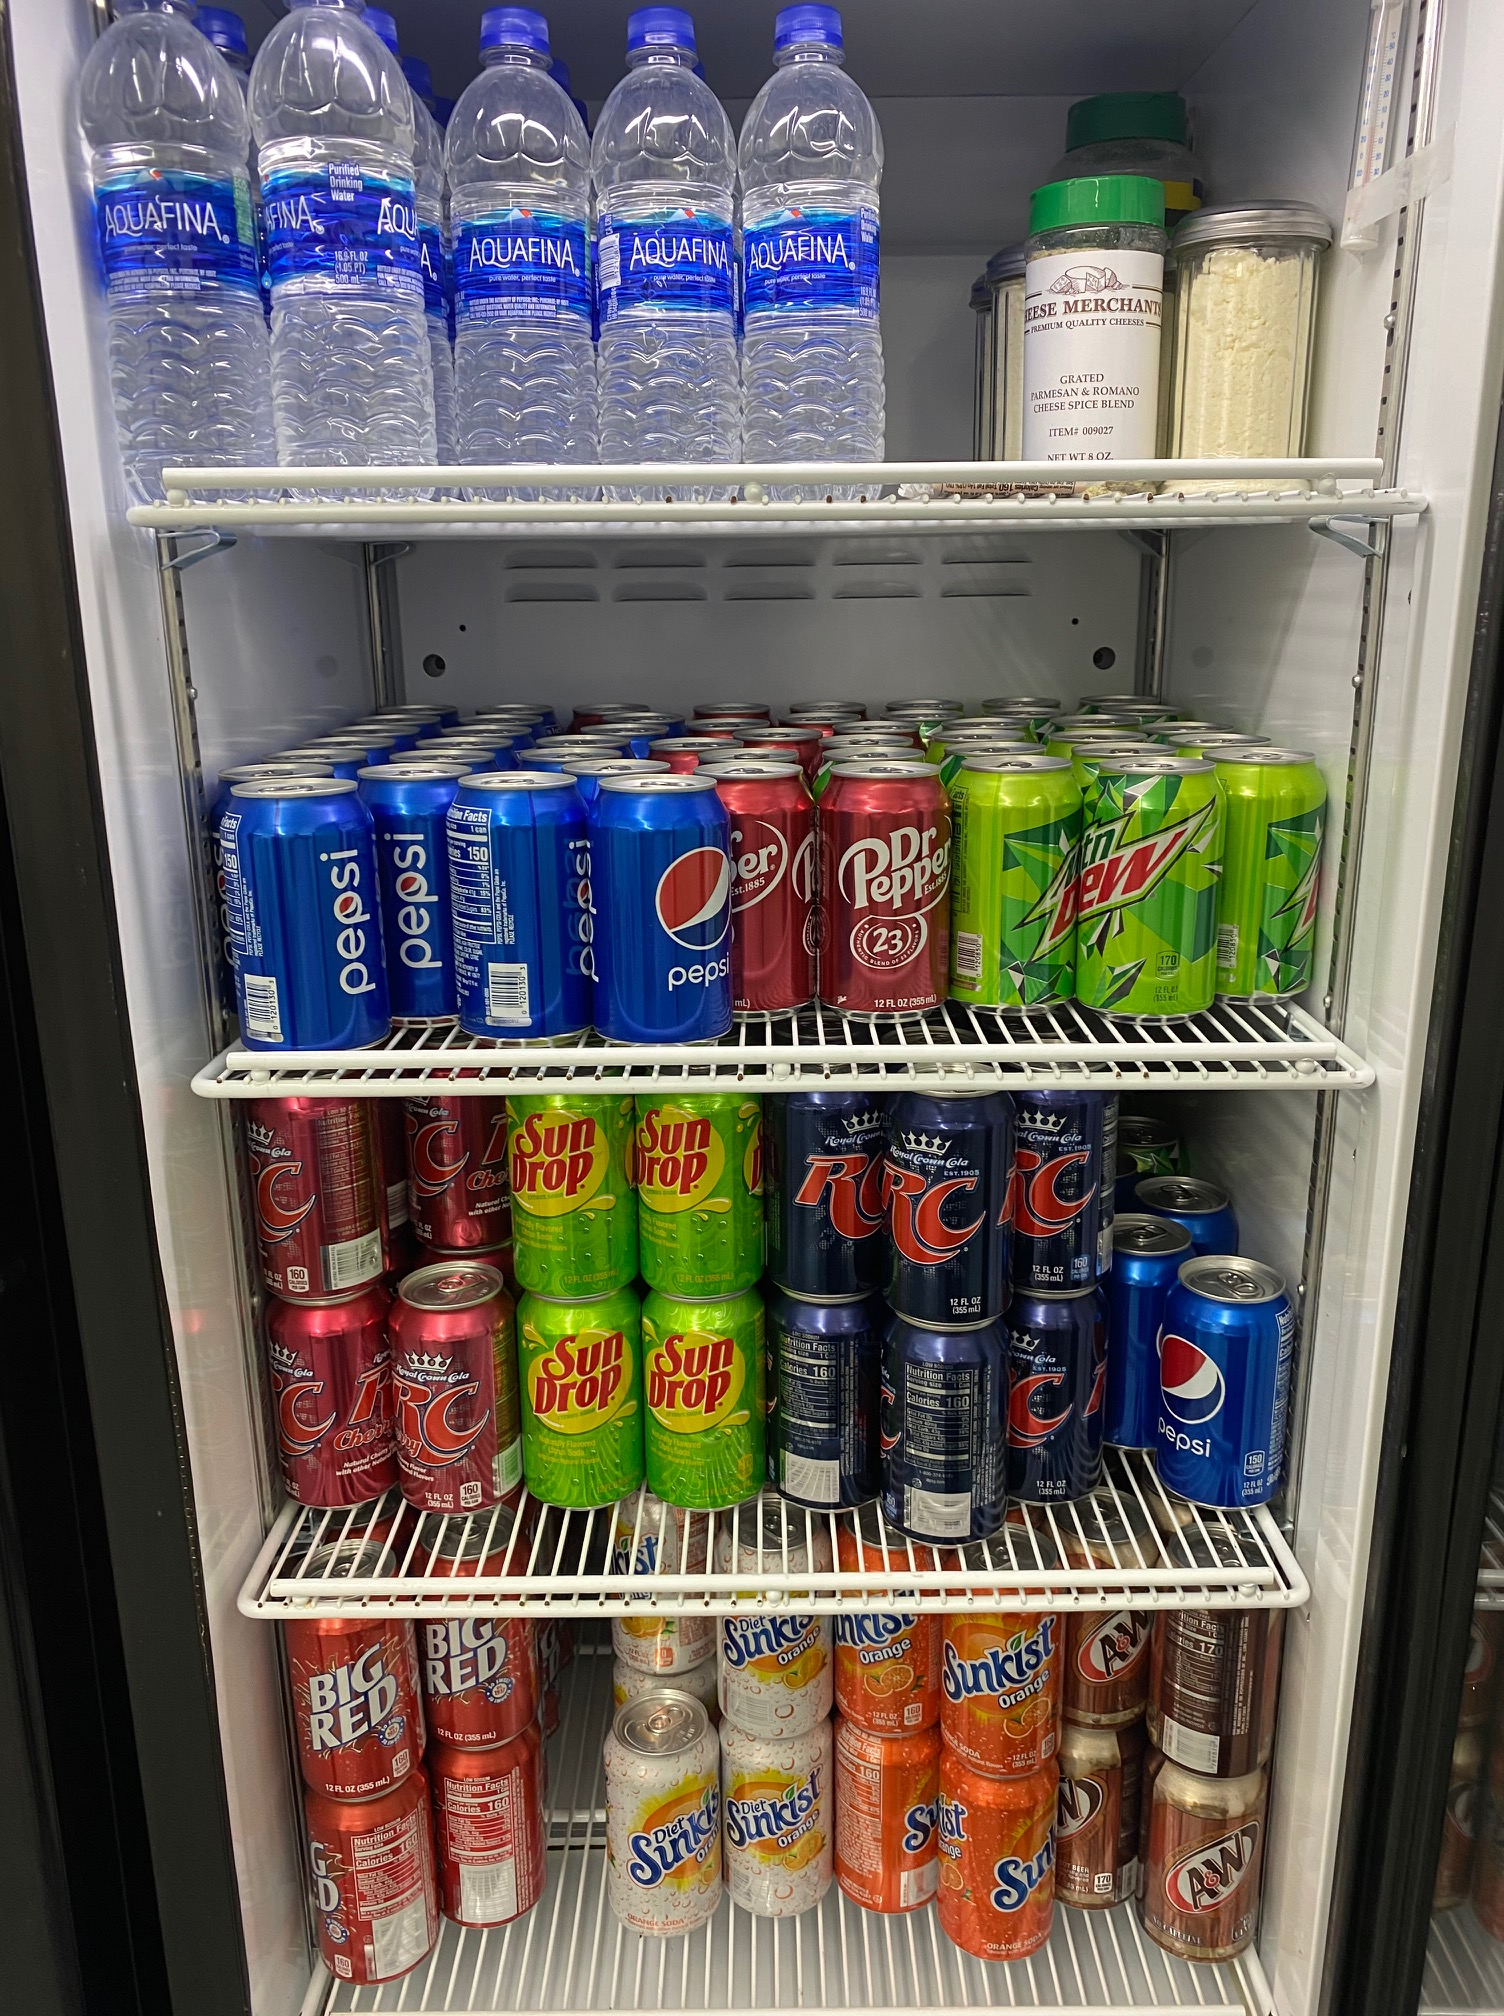A&W: (1164, 1823, 1254, 1913)
aquafina: (98, 194, 224, 243), (461, 235, 575, 276), (630, 232, 730, 273), (746, 235, 850, 273)
bigred: (308, 1645, 400, 1754), (423, 1618, 506, 1698)
drpepper: (842, 826, 949, 912)
pepsi: (649, 845, 730, 953), (1160, 1329, 1223, 1424), (335, 893, 363, 921), (397, 872, 422, 899)
royalcrowncola: (882, 1160, 983, 1269), (392, 1378, 491, 1465)
sundrop: (528, 1330, 626, 1420), (513, 1111, 596, 1202), (648, 1333, 738, 1414), (637, 1108, 711, 1194)
sunkist: (938, 1623, 1055, 1703), (624, 1792, 720, 1886), (728, 1768, 820, 1849)
